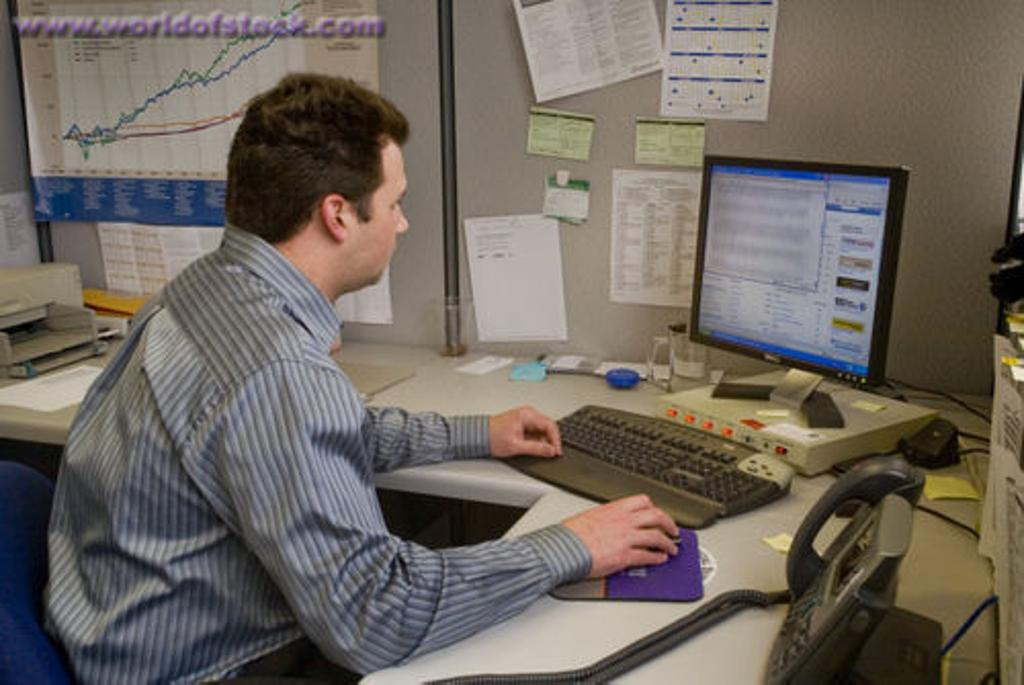face: (316, 132, 406, 288)
